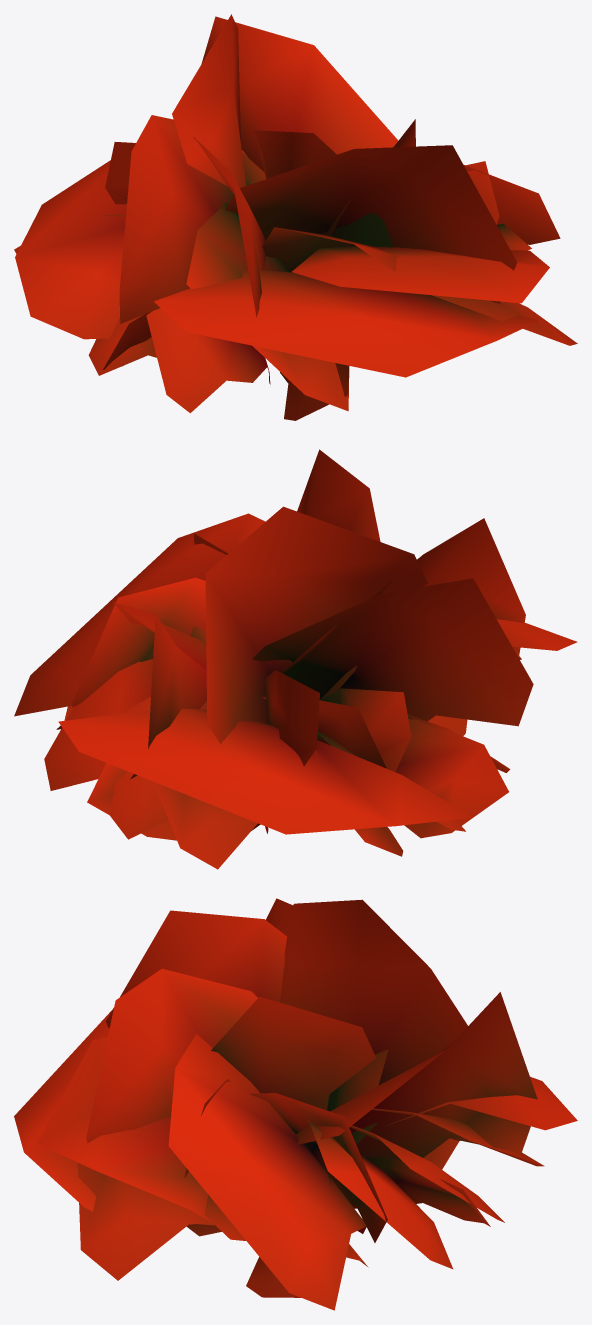
The model's file is JuniperBush_A.fbx.
The picture shows the model from 3 angles, top to bottom: view 1: azimuth 30°, elevation 25°; view 2: azimuth 150°, elevation 25°; view 3: azimuth 270°, elevation 25°; orthographic projection. The views are drawn at different scales.
Visible parts, largest first — view 1: JuniperBush_A_LOD0; view 2: JuniperBush_A_LOD0; view 3: JuniperBush_A_LOD0.
Part boxes in pixels (x1,y1,x2,y2): JuniperBush_A_LOD0: (14,14,577,420); JuniperBush_A_LOD0: (14,449,577,869); JuniperBush_A_LOD0: (14,898,577,1310).
Size of what is drawn, in the model's own units: 3.79 by 2.45 by 3.96.
